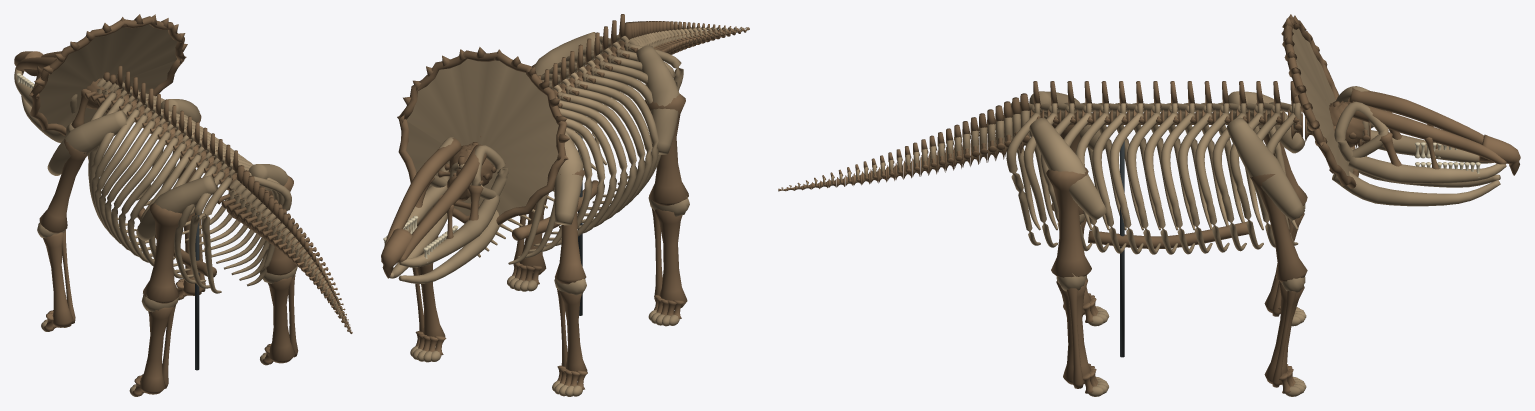
3 views of the same model, side by side, from view 1: azimuth 30°, elevation 25°; view 2: azimuth 150°, elevation 25°; view 3: azimuth 270°, elevation 25° (orthographic). The views are drawn at different scales.
Visible parts, largest first — view 1: D04_SPEC_Fossil ridge_export, D04_SPEC_Fossil umber_export, D04_SPEC_Mount steel_export; view 2: D04_SPEC_Fossil ridge_export, D04_SPEC_Fossil umber_export, D04_SPEC_Ivory_export; view 3: D04_SPEC_Fossil ridge_export, D04_SPEC_Fossil umber_export, D04_SPEC_Mount steel_export, D04_SPEC_Ivory_export.
Part boxes in pixels (x1,y1,x2,y2): D04_SPEC_Fossil ridge_export: (14,24,350,396); D04_SPEC_Fossil umber_export: (14,14,352,396); D04_SPEC_Mount steel_export: (195,206,199,370); D04_SPEC_Fossil ridge_export: (389,27,747,396); D04_SPEC_Fossil umber_export: (381,14,749,389); D04_SPEC_Ivory_export: (383,215,458,262); D04_SPEC_Fossil ridge_export: (782,28,1506,396); D04_SPEC_Fossil umber_export: (778,14,1520,393); D04_SPEC_Mount steel_export: (1120,141,1124,357); D04_SPEC_Ivory_export: (1414,142,1480,177).
Bounding box in the file's own units: 0.5831 × 1.02 × 2.06.
